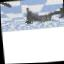drone: (23, 4, 64, 24)
